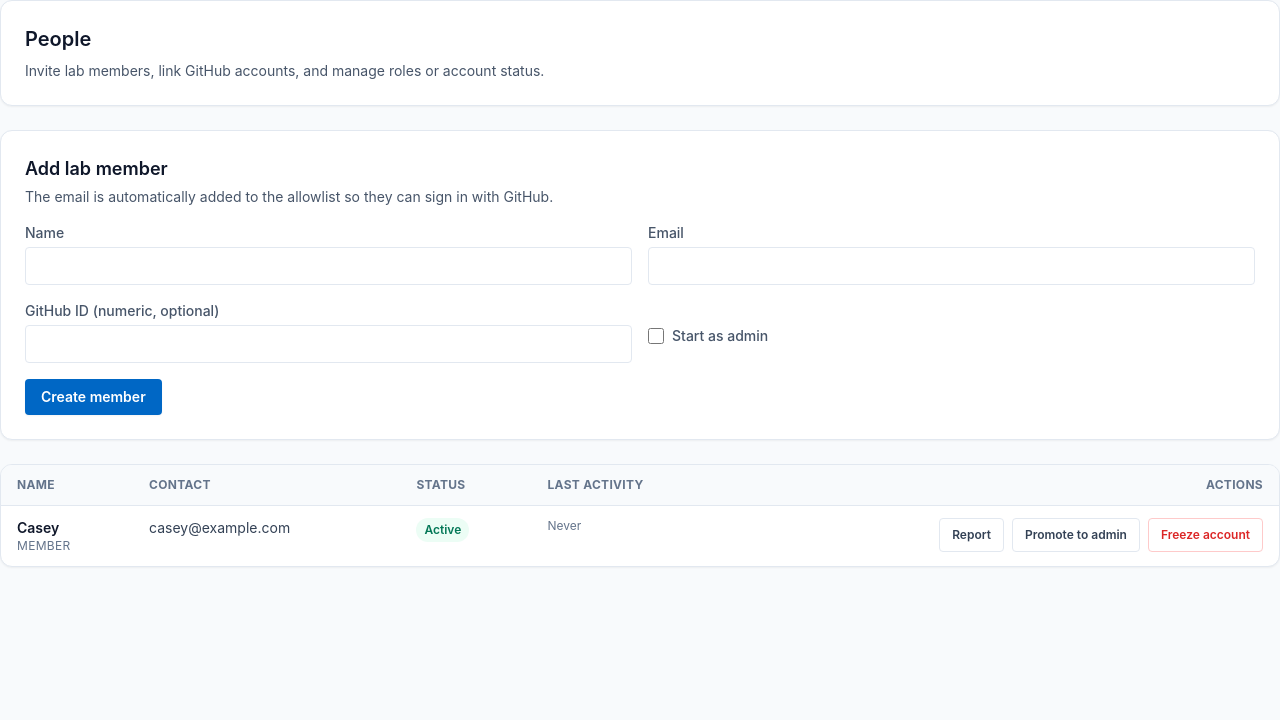
UserAdminTable › freezes and reactivates an account
Click the button "Freeze account".
click(1205, 535)  # box [1148,518,1263,552]
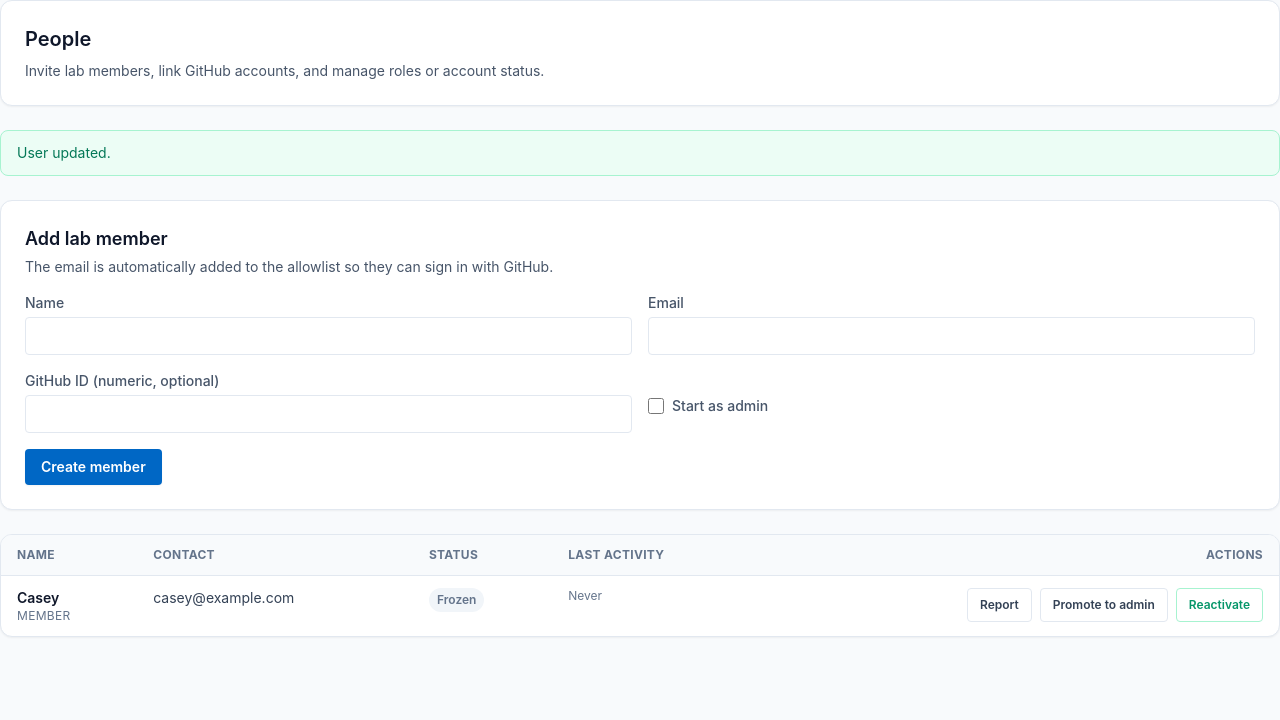
Expected: the button "Reactivate" is shown, [1176,588,1263,622]
